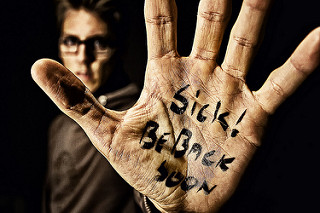palm: (140, 71, 237, 203)
